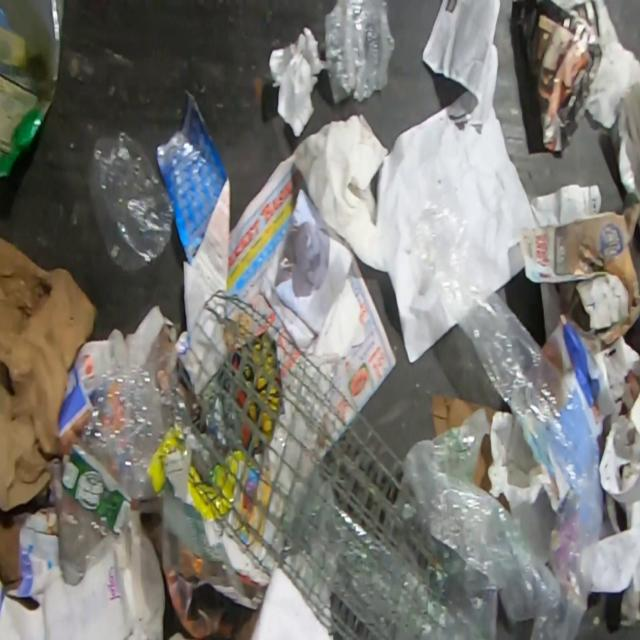cardboard: (432, 394, 495, 436), (473, 434, 492, 490), (496, 493, 509, 507)
metal: (176, 286, 451, 640)
rigid_plastic: (54, 355, 200, 586), (324, 0, 396, 103)
soft_plastic: (399, 171, 604, 639), (86, 129, 174, 272), (486, 409, 562, 514)
